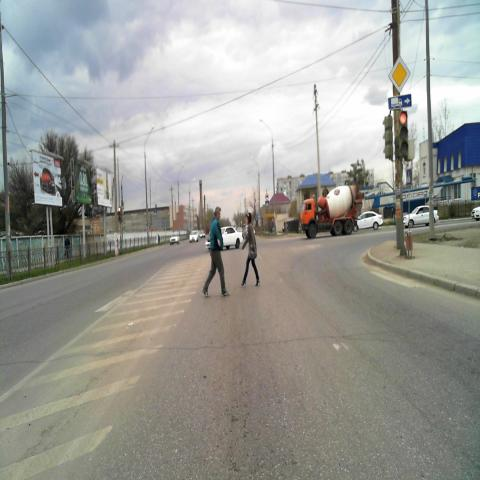6_15_2: (389, 95, 412, 110)
